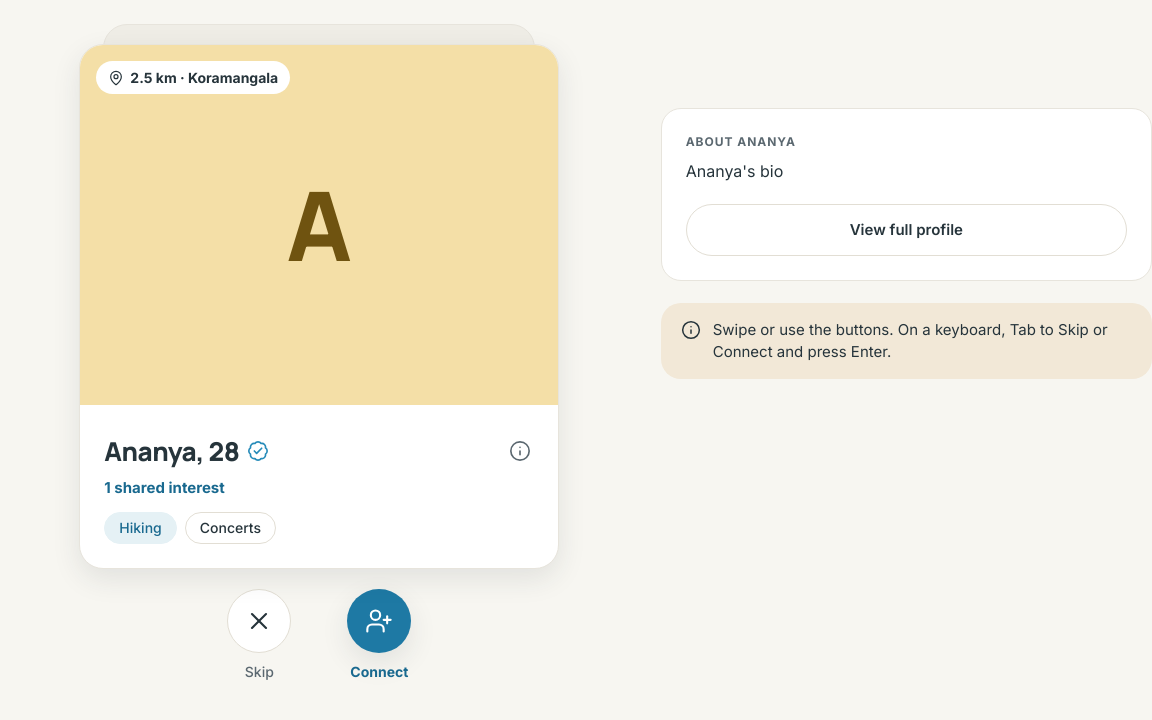
Test: S08 DiscoverDeck › Connect sends a request, shows the toast and moves to the next card
The width and height of the screenshot is (1152, 720).
Click the button "Connect" at (379, 635), box [347, 588, 411, 682]
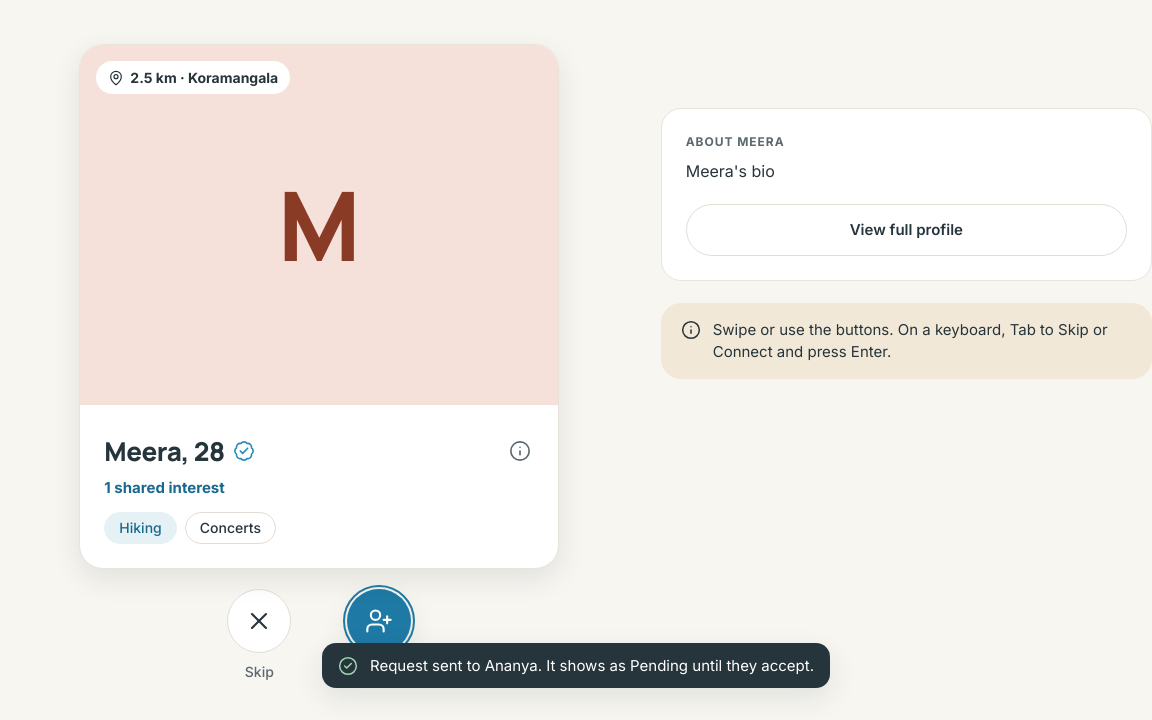
Now the text "Request sent to Ananya. It shows as Pending until they accept." is shown, box [370, 655, 814, 676]
